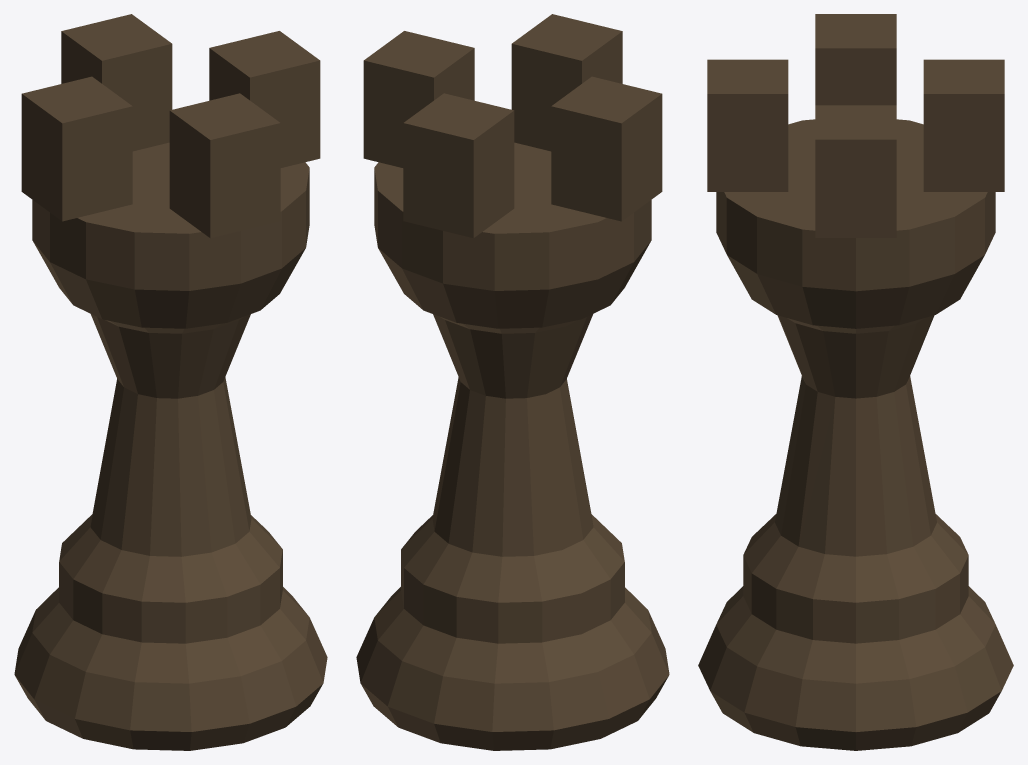
The model's file is SM_IntellectualGrandpaHouse_Chess_Black_Rook.fbx.
3 renders of one model, left to right at view 1: azimuth 30°, elevation 25°; view 2: azimuth 150°, elevation 25°; view 3: azimuth 270°, elevation 25°, orthographic.
Visible parts, largest first — view 1: SM_IntellectualGrandpaHouse_Chess_Black_Rook; view 2: SM_IntellectualGrandpaHouse_Chess_Black_Rook; view 3: SM_IntellectualGrandpaHouse_Chess_Black_Rook.
Part boxes in pixels (<box>): SM_IntellectualGrandpaHouse_Chess_Black_Rook: <box>14,14,327,750</box>; SM_IntellectualGrandpaHouse_Chess_Black_Rook: <box>356,14,669,750</box>; SM_IntellectualGrandpaHouse_Chess_Black_Rook: <box>698,14,1013,750</box>.
Bounding box in the file's own units: 7 × 7 × 15.
